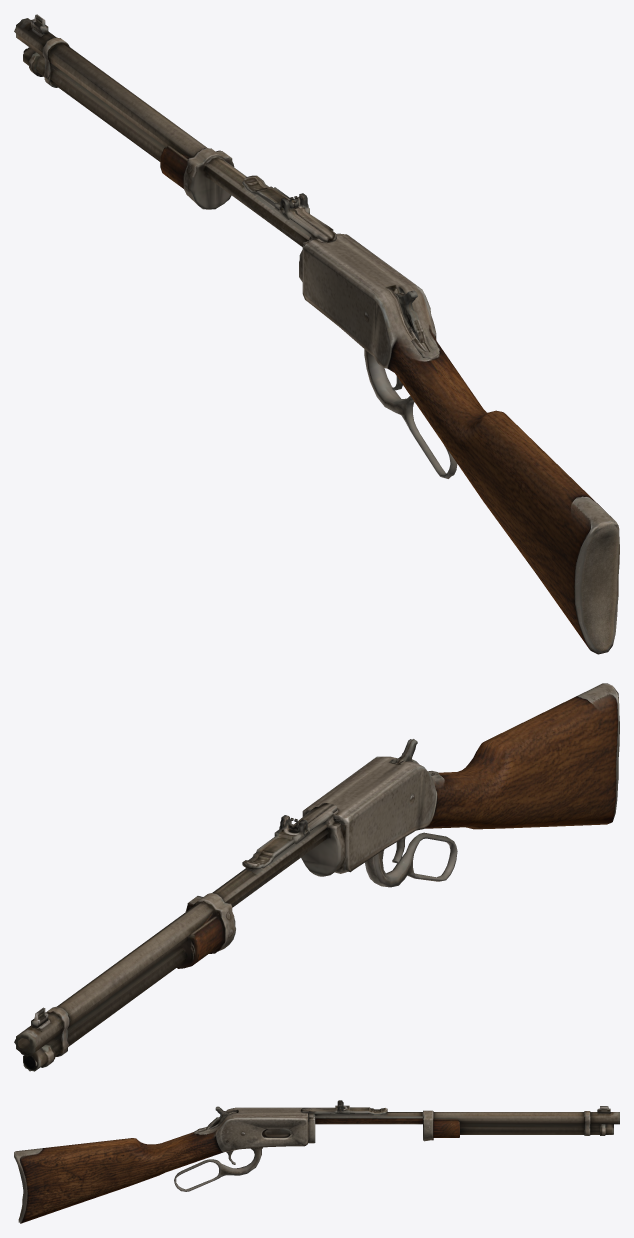
The model's file is lever+action+rifle+3d+model.glb.
3 renders of one model, top to bottom at view 1: azimuth 30°, elevation 25°; view 2: azimuth 150°, elevation 25°; view 3: azimuth 270°, elevation 25°, orthographic. The views are drawn at different scales.
Visible parts, largest first — view 1: tripo_node_2d2b1e7c-06fb-4a37-bab1-9e0fd8ba9956; view 2: tripo_node_2d2b1e7c-06fb-4a37-bab1-9e0fd8ba9956; view 3: tripo_node_2d2b1e7c-06fb-4a37-bab1-9e0fd8ba9956.
Boxes of the visible parts, x1,y1,x2,y2 form: tripo_node_2d2b1e7c-06fb-4a37-bab1-9e0fd8ba9956: (14,14,619,654); tripo_node_2d2b1e7c-06fb-4a37-bab1-9e0fd8ba9956: (14,683,619,1071); tripo_node_2d2b1e7c-06fb-4a37-bab1-9e0fd8ba9956: (14,1100,619,1223).
Size of the model in its own units: 0.0449 by 0.2168 by 0.998.
Materials: 1 (1 with a texture image).
